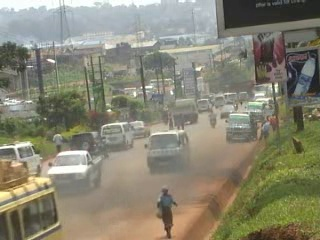Car: (65, 127, 105, 161), (127, 118, 153, 141), (218, 101, 239, 120)
Motorcycle: (207, 107, 218, 130)
